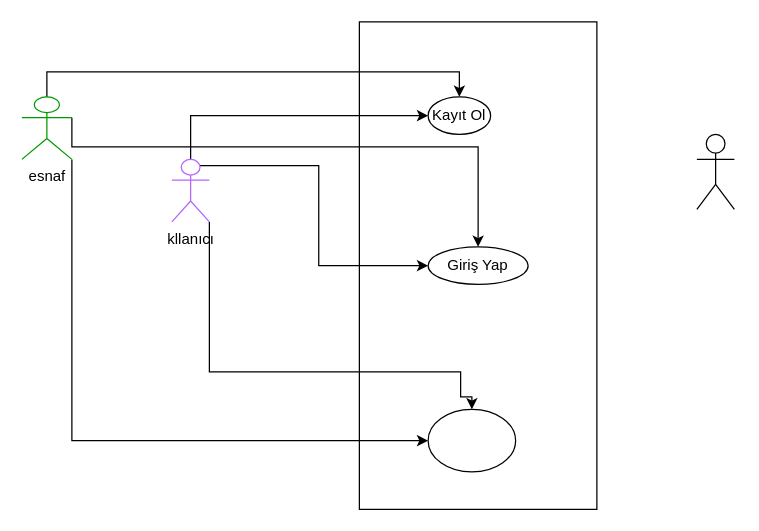
Some shapes in this 759 by 531 pixel diagram are drawn without their labels. Each missing label, with the box of its shape:
Admin: (696, 133, 734, 209)
Şifremi Unuttum: (427, 408, 516, 472)
